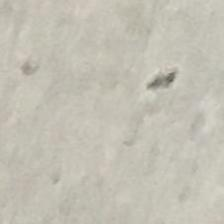Non_Crack: (18, 8, 224, 223)
